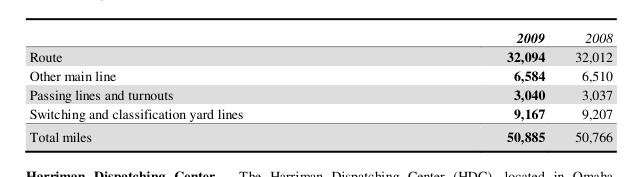table: (28, 28, 612, 145)
table column: (28, 28, 374, 145), (374, 28, 559, 145), (559, 28, 612, 145)
table column header: (28, 28, 612, 46)
table row: (28, 103, 612, 124), (28, 124, 612, 145), (28, 46, 612, 65), (28, 65, 612, 84), (28, 84, 612, 103), (28, 28, 612, 46)
